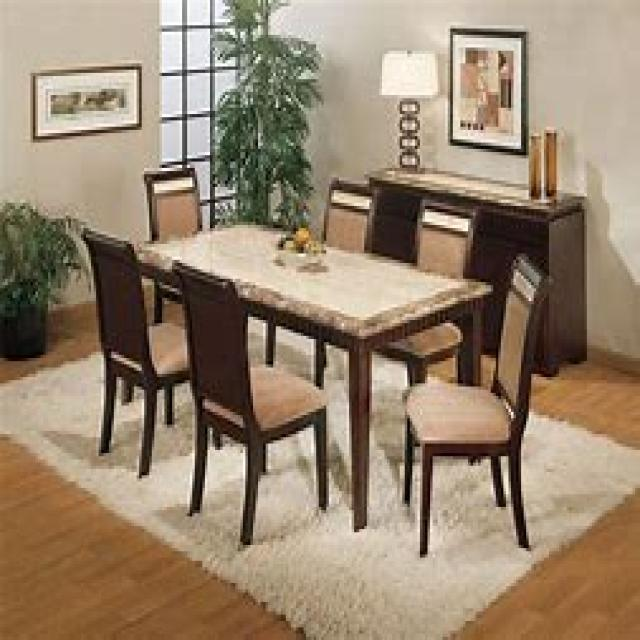chair: (399, 250, 552, 554), (169, 257, 329, 545)
table: (134, 219, 493, 532)
